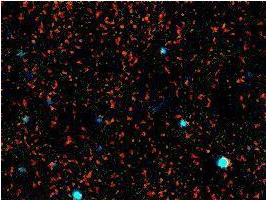star: (52, 125, 82, 155)
